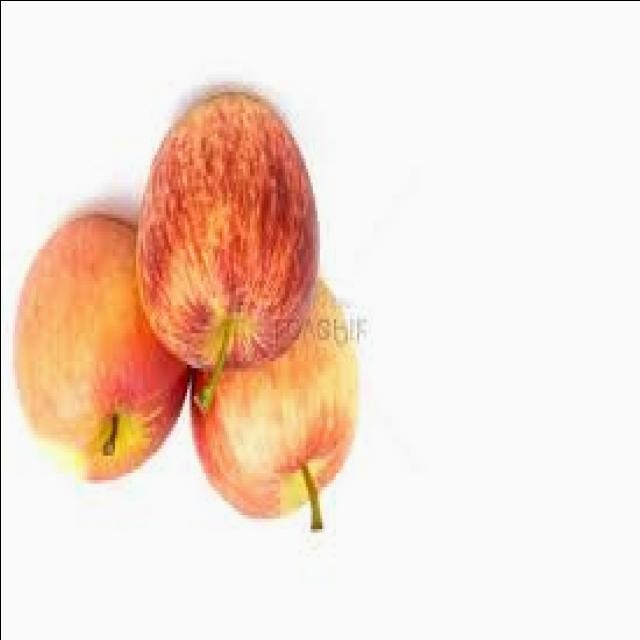agrume: (174, 248, 398, 540), (0, 189, 189, 513), (111, 109, 329, 389)
